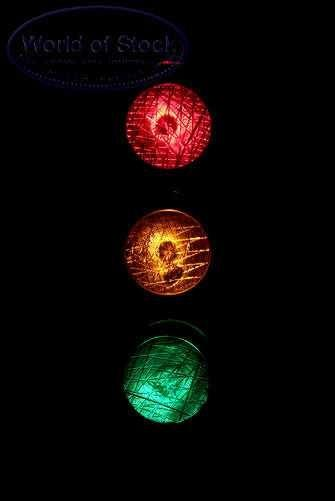green: (110, 312, 230, 441)
red: (122, 57, 229, 181)
